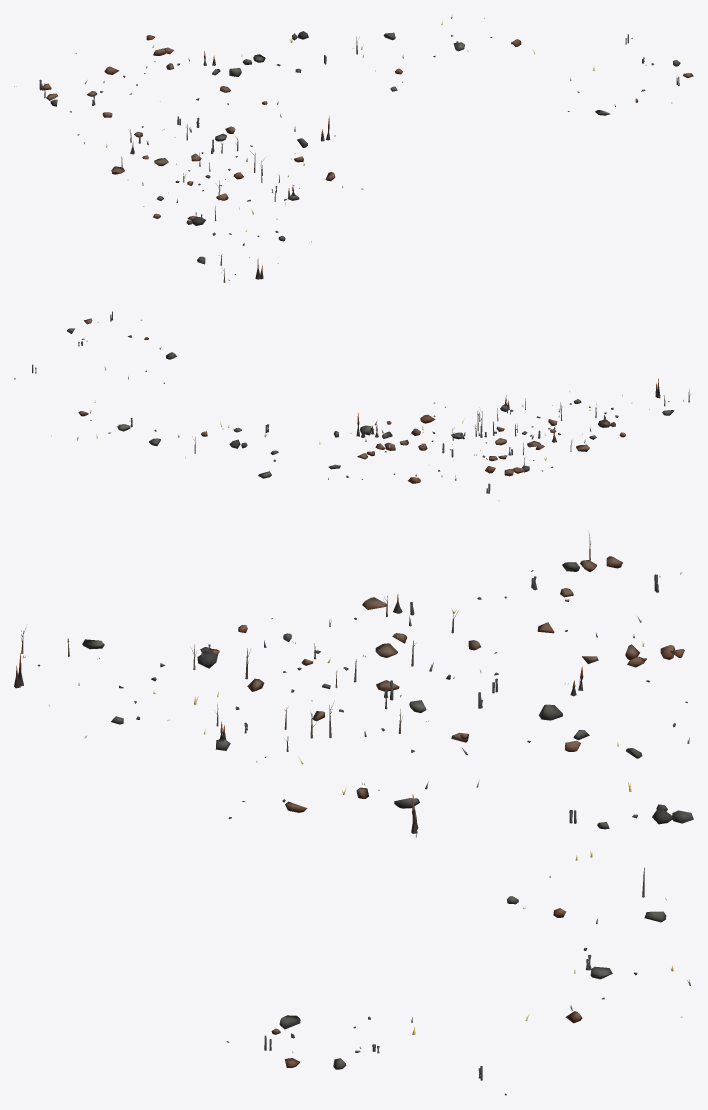
The model's file is ash_land_scatter_c18_28_lod1.glb.
3 views of the same model, one above another, from view 1: azimuth 30°, elevation 25°; view 2: azimuth 150°, elevation 25°; view 3: azimuth 270°, elevation 25° (orthographic). The views are drawn at different scales.
Parts seen in each view (by area): view 1: ash_land_scatter_c18_28_lod1; view 2: ash_land_scatter_c18_28_lod1; view 3: ash_land_scatter_c18_28_lod1.
Boxes of the visible parts, x1=… form: ash_land_scatter_c18_28_lod1: x1=14, y1=14, x2=693, y2=282; ash_land_scatter_c18_28_lod1: x1=14, y1=311, x2=690, y2=501; ash_land_scatter_c18_28_lod1: x1=14, y1=533, x2=693, y2=1095.
Bounding box in the file's own units: 252 × 37.65 × 163.
